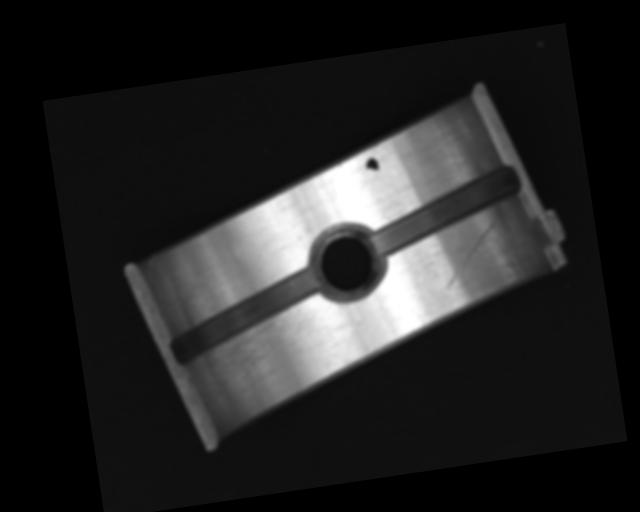blot: (364, 156, 380, 177)
gap: (163, 264, 329, 366), (365, 164, 529, 259)
hole: (306, 218, 387, 306)
nick: (437, 219, 507, 291)
scratch: (189, 303, 329, 401)
